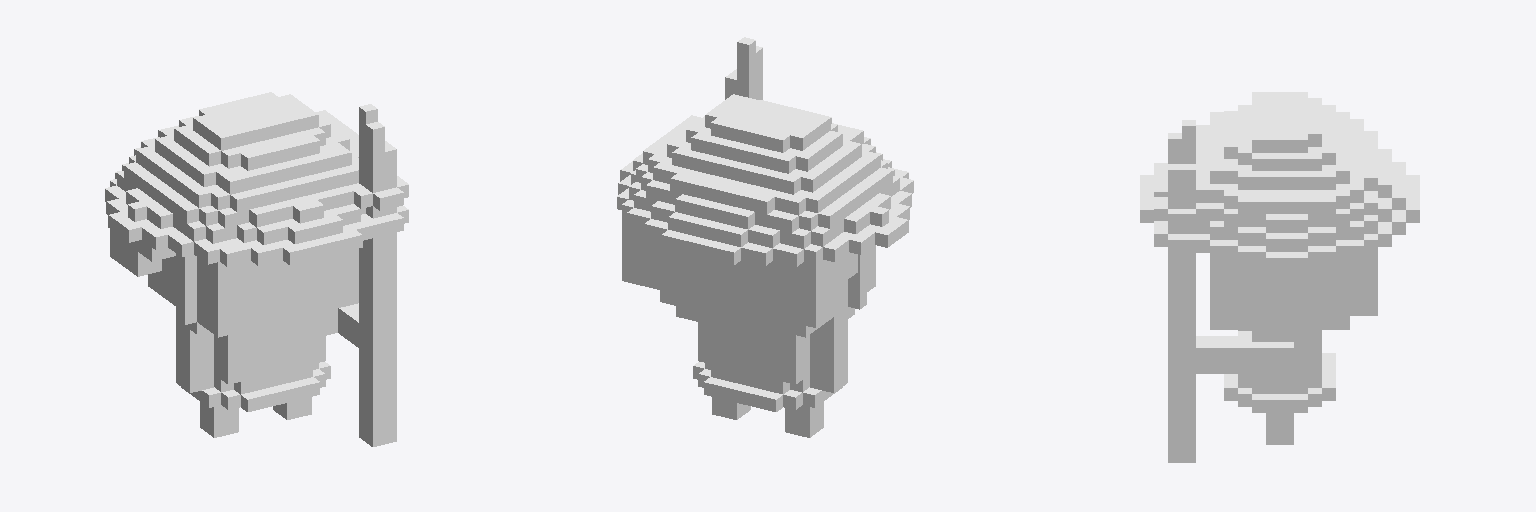
Rendered from gatekeeper.obj.
3 renders of one model, left to right at view 1: azimuth 30°, elevation 25°; view 2: azimuth 150°, elevation 25°; view 3: azimuth 270°, elevation 25°, orthographic.
Visible parts, largest first — view 1: object 1; view 2: object 1; view 3: object 1.
Part boxes in pixels (x1,y1,x2,y2): object 1: (105, 92, 408, 446); object 1: (617, 37, 913, 437); object 1: (1140, 92, 1419, 462).
Size of the model in its own units: 2.2 by 2.6 by 2.